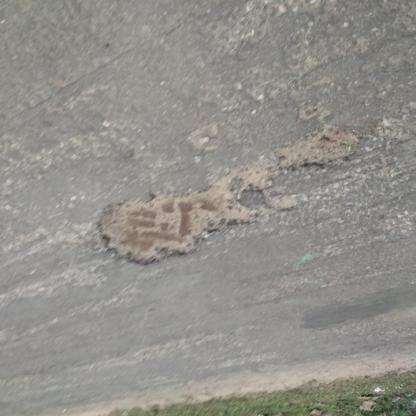pothole: (94, 162, 273, 272), (273, 125, 365, 176)
